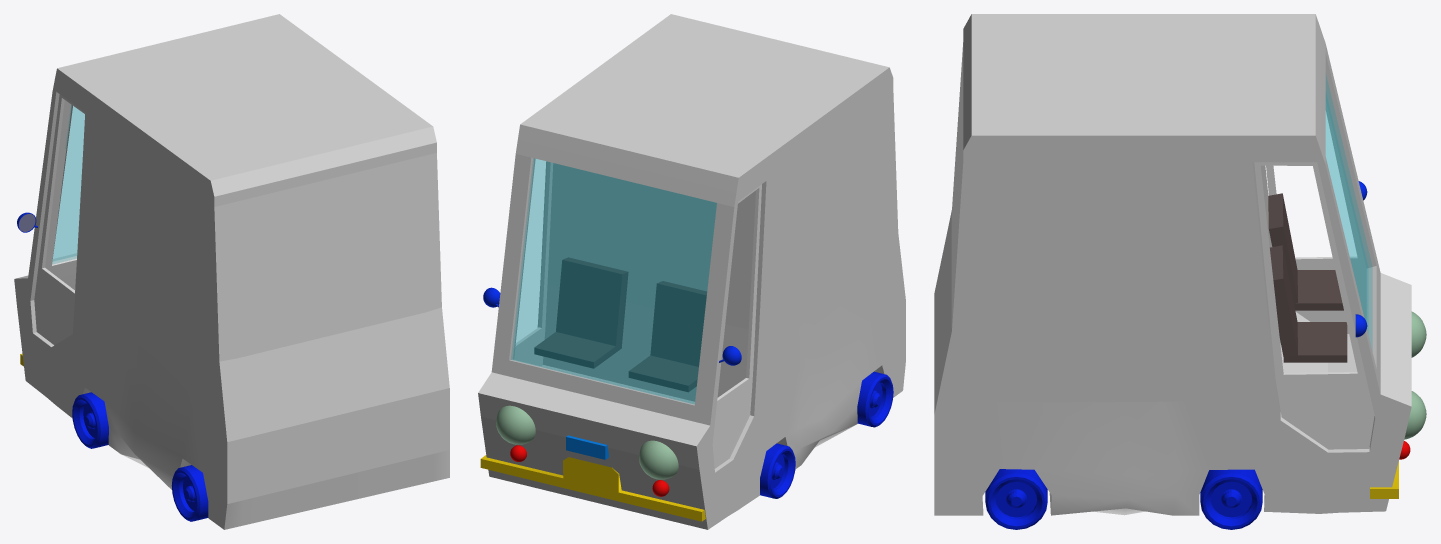
File: campervan.fbx
3 renders of one model, left to right at view 1: azimuth 30°, elevation 25°; view 2: azimuth 150°, elevation 25°; view 3: azimuth 270°, elevation 25°, orthographic. The views are drawn at different scales.
Parts seen in each view (by area): view 1: vanbody, door1, glass1, wheel_hi2, wheel_hi1; view 2: vanbody, glass1, chair1, bumper1, door1, biglight, door, wheel_hi1, wheel_hi2, rectangle; view 3: vanbody, door, chair1, glass1, wheel:wheel_hi, wheel_hi, door1, biglight.
Boxes of the visible parts, x1,y1,x2,y2 form: vanbody: (14, 14, 449, 529); door1: (34, 94, 85, 345); glass1: (52, 105, 84, 263); wheel_hi2: (72, 392, 108, 448); wheel_hi1: (171, 465, 208, 521); vanbody: (478, 14, 905, 529); glass1: (511, 158, 716, 404); chair1: (534, 257, 706, 392); bumper1: (480, 455, 705, 521); door1: (712, 184, 761, 468); biglight: (496, 405, 678, 479); door: (514, 162, 553, 366); wheel_hi1: (857, 371, 893, 427); wheel_hi2: (760, 443, 795, 498); rectangle: (566, 435, 608, 459); vanbody: (934, 14, 1411, 515); door: (1254, 162, 1374, 449); chair1: (1268, 193, 1347, 362); glass1: (1326, 76, 1372, 349); wheel:wheel_hi: (1200, 469, 1262, 529); wheel_hi: (985, 469, 1047, 529); door1: (1266, 100, 1366, 333); biglight: (1404, 311, 1426, 439).
Bounding box in the file's own units: 219 × 280 × 318.
